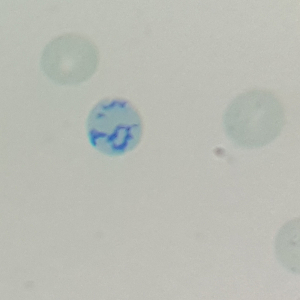aggregate reticulocyte: (85, 95, 144, 158)
erythrocyte: (38, 32, 99, 87)
punctate reticulocyte: (221, 88, 288, 149)
